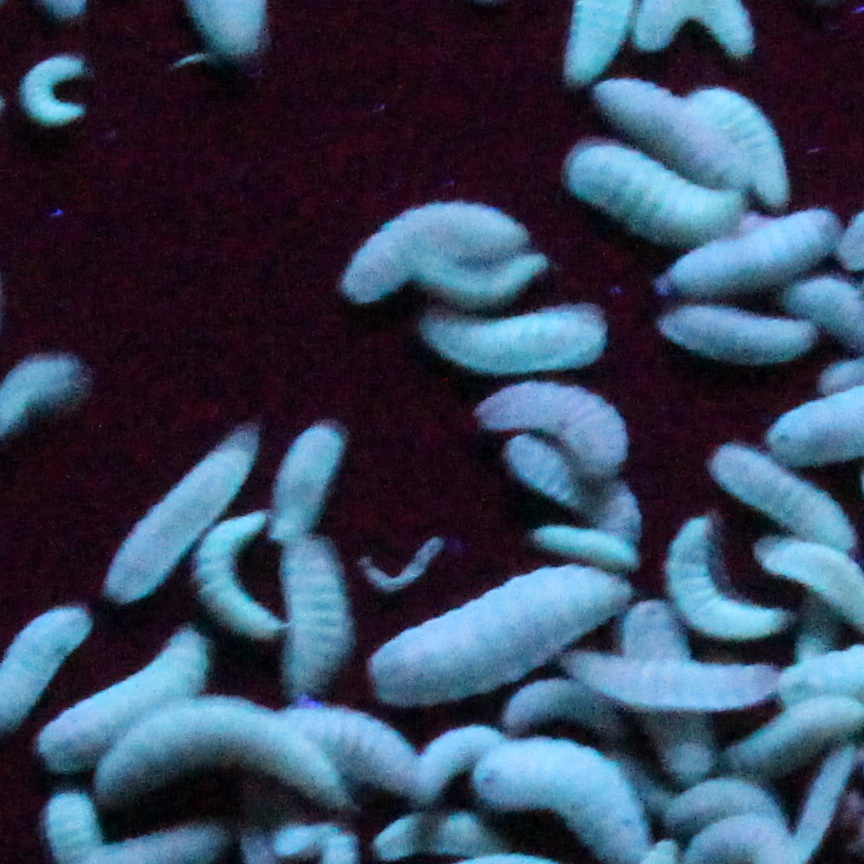larve: (389, 565, 603, 696), (140, 701, 323, 809), (489, 743, 658, 857), (118, 443, 230, 594), (57, 635, 191, 760), (615, 74, 732, 174), (591, 148, 728, 231), (511, 377, 632, 470), (640, 610, 707, 774), (686, 221, 828, 296), (345, 214, 496, 284), (684, 526, 786, 628), (728, 460, 835, 557), (585, 661, 773, 712), (430, 309, 601, 362), (535, 443, 630, 526), (723, 84, 791, 196), (736, 712, 860, 770), (206, 516, 274, 616), (325, 706, 418, 777), (293, 545, 337, 684), (284, 421, 335, 533), (381, 802, 493, 849), (14, 51, 91, 118), (437, 250, 547, 294), (679, 784, 775, 833), (674, 316, 796, 353), (547, 518, 630, 567), (418, 723, 469, 796), (503, 700, 595, 721)
